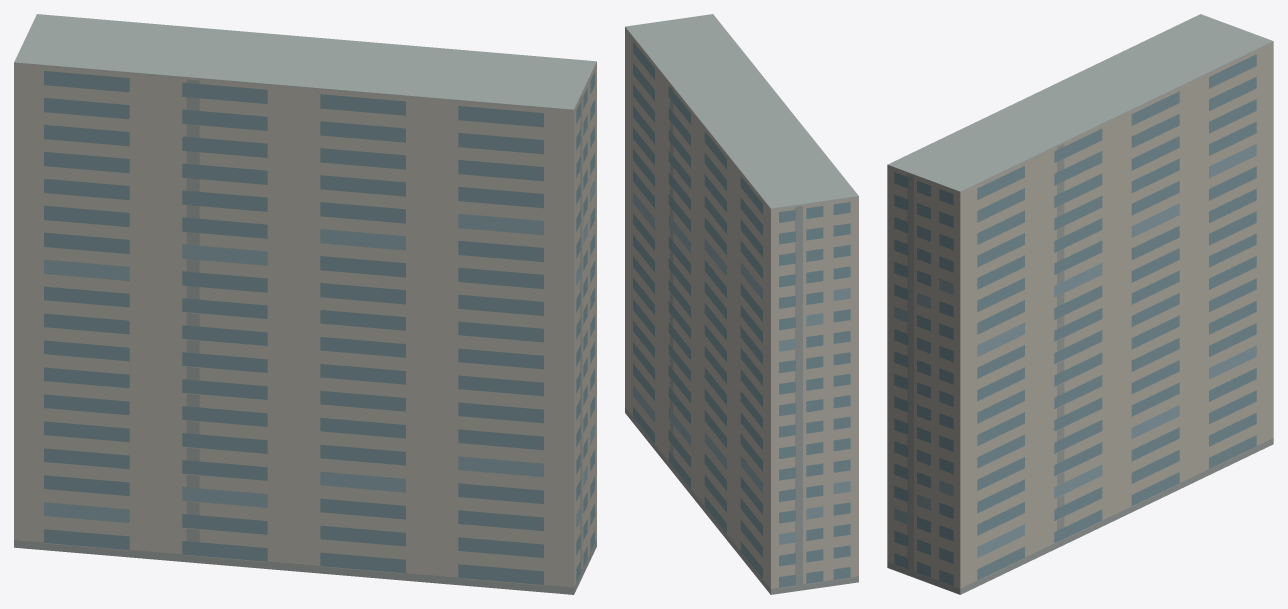
File: residential-dc75c790-e820-4401-b5d1-1f9232295947.glb
3 renders of one model, left to right at view 1: azimuth 30°, elevation 25°; view 2: azimuth 150°, elevation 25°; view 3: azimuth 270°, elevation 25°, orthographic. The views are drawn at different scales.
Parts seen in each view (by area): view 1: residential-dc75c790-e820-4401-b5d1-1f9232295947.tmp; view 2: residential-dc75c790-e820-4401-b5d1-1f9232295947.tmp; view 3: residential-dc75c790-e820-4401-b5d1-1f9232295947.tmp.
Boxes of the visible parts, bbox=[...] form: residential-dc75c790-e820-4401-b5d1-1f9232295947.tmp: bbox=[14, 14, 596, 594]; residential-dc75c790-e820-4401-b5d1-1f9232295947.tmp: bbox=[625, 14, 858, 594]; residential-dc75c790-e820-4401-b5d1-1f9232295947.tmp: bbox=[887, 14, 1273, 594].
Size of the model in its own units: 45.37 by 48 by 41.65.
